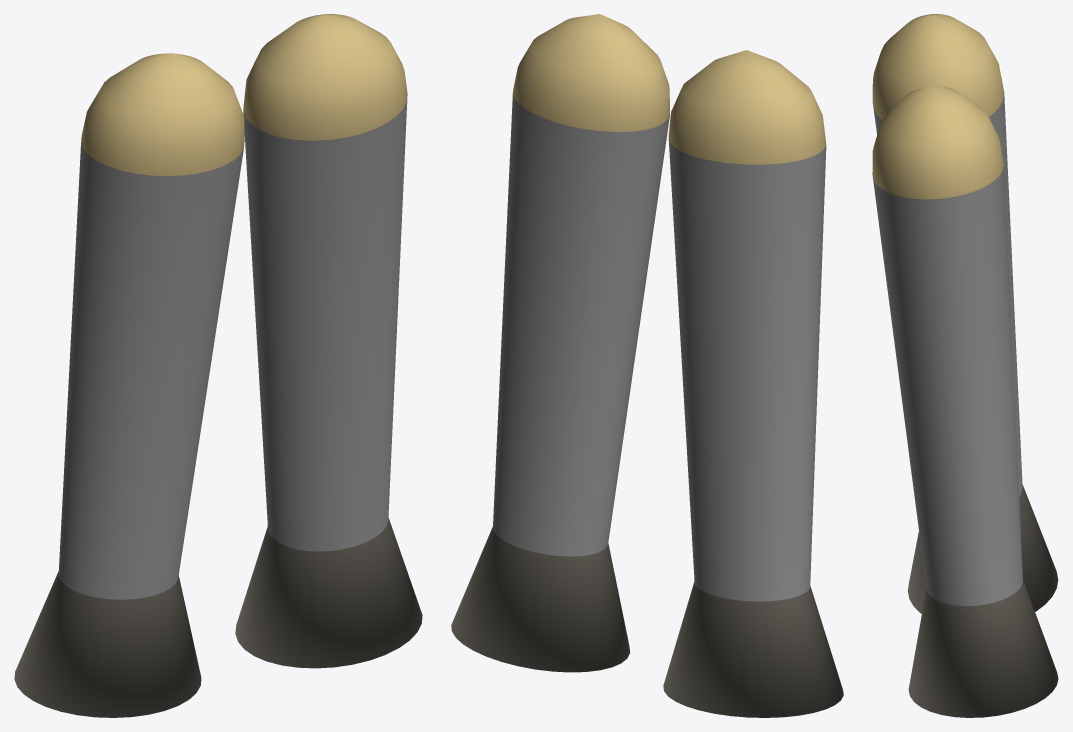
File: FızıkTeacherRockets.fbx
The picture shows the model from 3 angles, left to right: view 1: azimuth 30°, elevation 25°; view 2: azimuth 150°, elevation 25°; view 3: azimuth 270°, elevation 25°; orthographic projection. The views are drawn at different scales.
Parts seen in each view (by area): view 1: Cylinder; view 2: Cylinder; view 3: Cylinder.
Part boxes in pixels (x1,y1,x2,y2): Cylinder: (14,14,422,717); Cylinder: (451,14,843,717); Cylinder: (872,14,1058,717).
Bounding box in the file's own units: 66.6 × 105 × 30.01.
